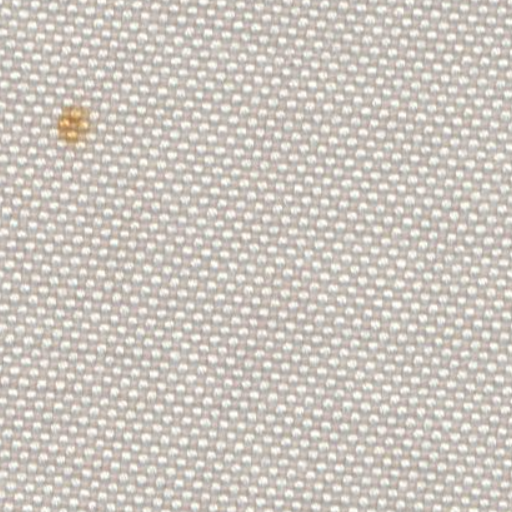WuZi: (41, 86, 102, 159)
